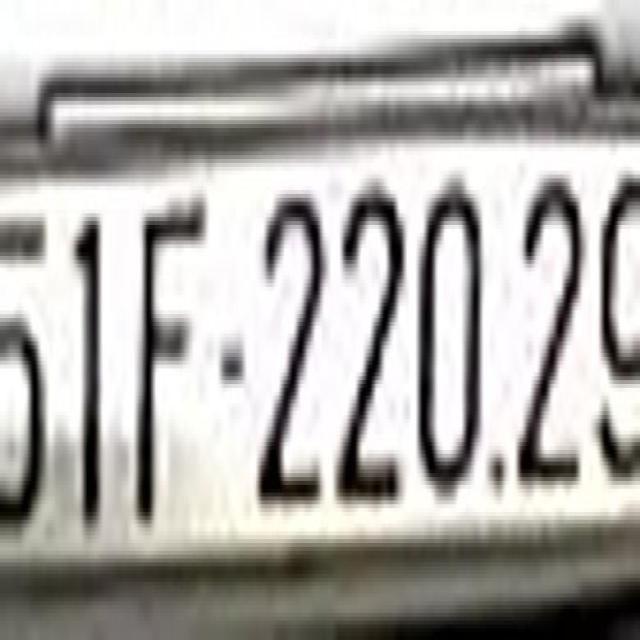0: (416, 169, 482, 498)
1: (71, 190, 109, 531)
2: (254, 180, 324, 514), (335, 175, 404, 512), (516, 161, 582, 498)
5: (0, 199, 48, 537)
9: (597, 161, 640, 491)
F: (134, 186, 209, 528)
